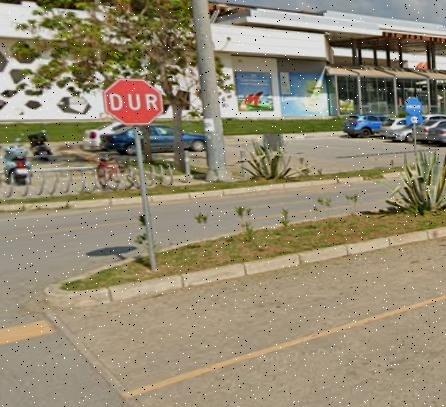stop: (106, 78, 162, 125)
